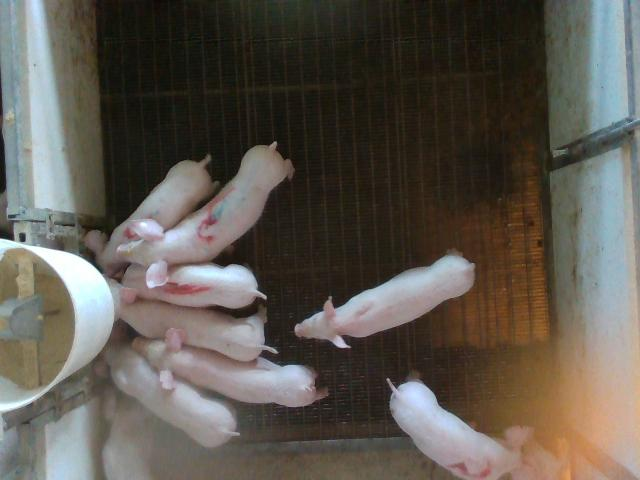pig-1: (121, 264, 266, 308)
pig-2: (388, 380, 561, 479)
pig-3: (116, 142, 294, 287)
pig-5: (85, 155, 219, 277)
